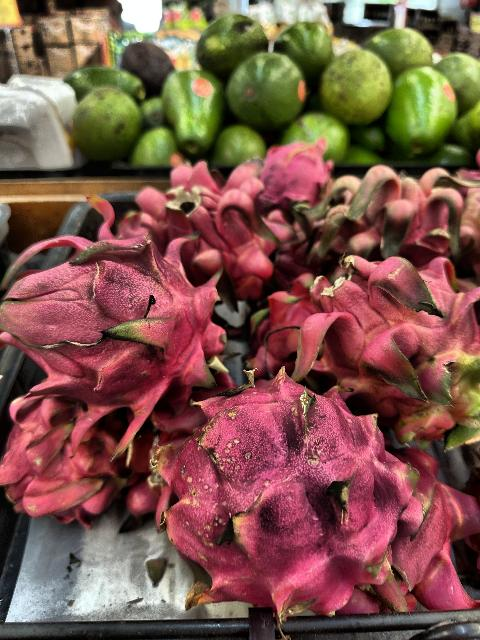buah-naga-matang: (156, 374, 408, 606), (0, 224, 236, 394), (288, 256, 480, 434), (0, 373, 122, 533), (292, 163, 474, 265), (386, 434, 480, 628), (135, 170, 285, 284), (253, 138, 327, 206)
